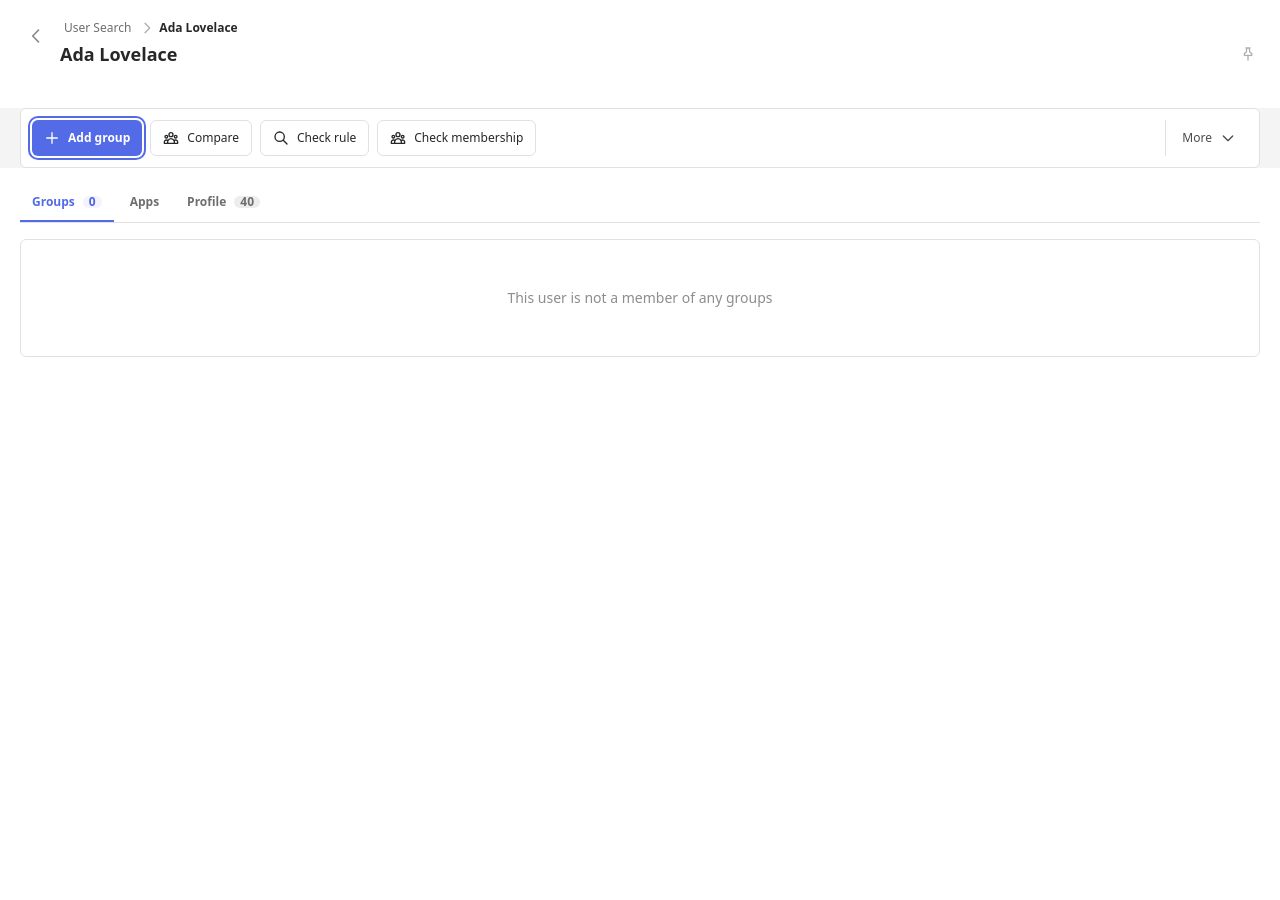
Test: detail rung: profile attributes are reachable and filterable › exposes a named attribute and its value
expect the heading "Ada Lovelace" is shown: met, box [60,42,178,66]
Click the tab "Profile 40" at {"x": 224, "y": 203}, box [175,184,272,222]
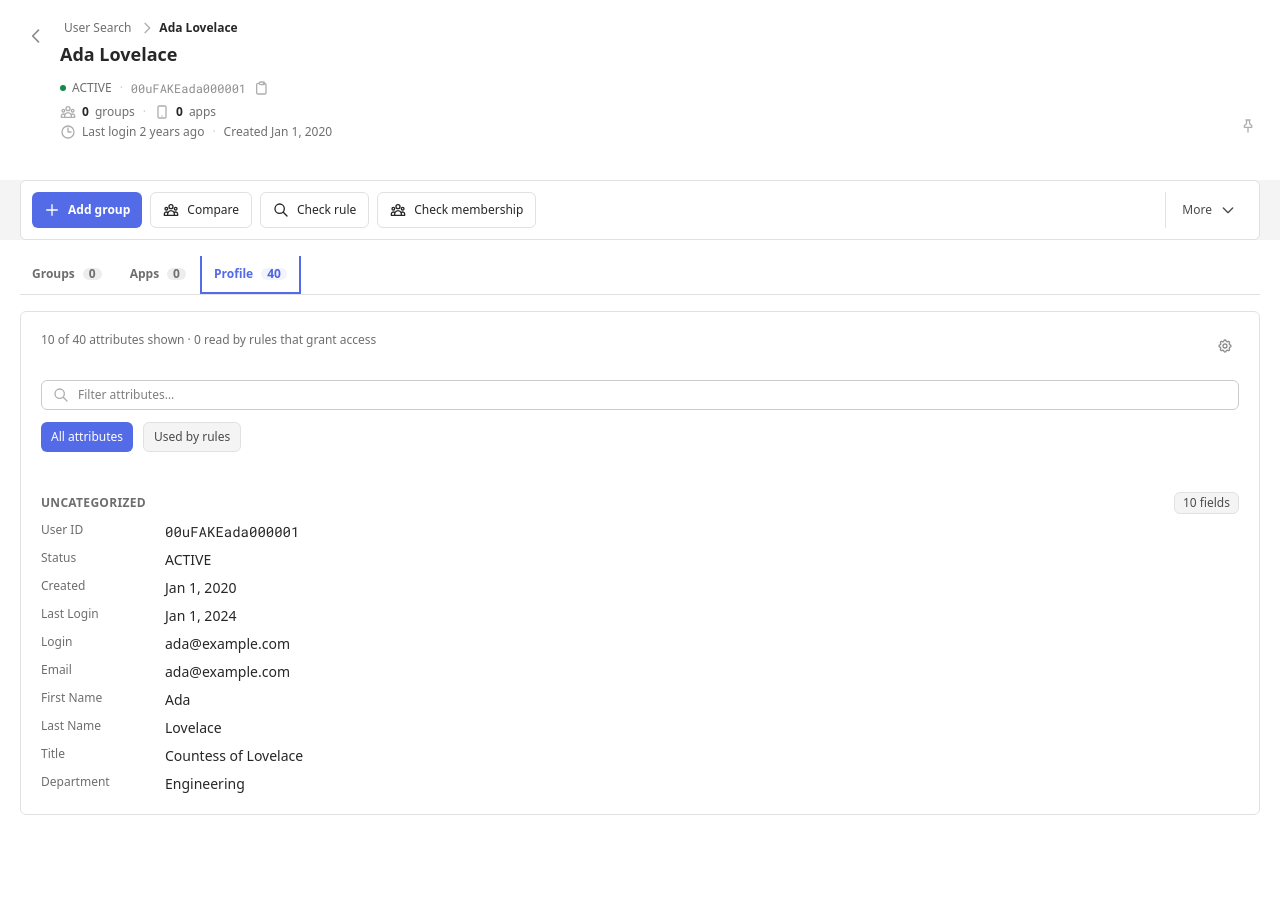
expect the text "Title" is shown: met, box [41,745,65,762]
expect the text "Countess of Lovelace" is shown: met, box [165,746,303,766]
expect the text "Login" is shown: met, box [41,633,72,650]
